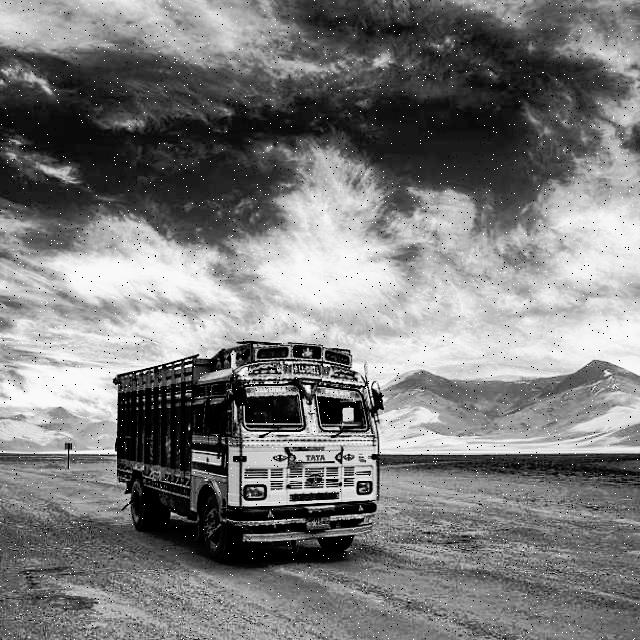HCV: (99, 311, 421, 577)
